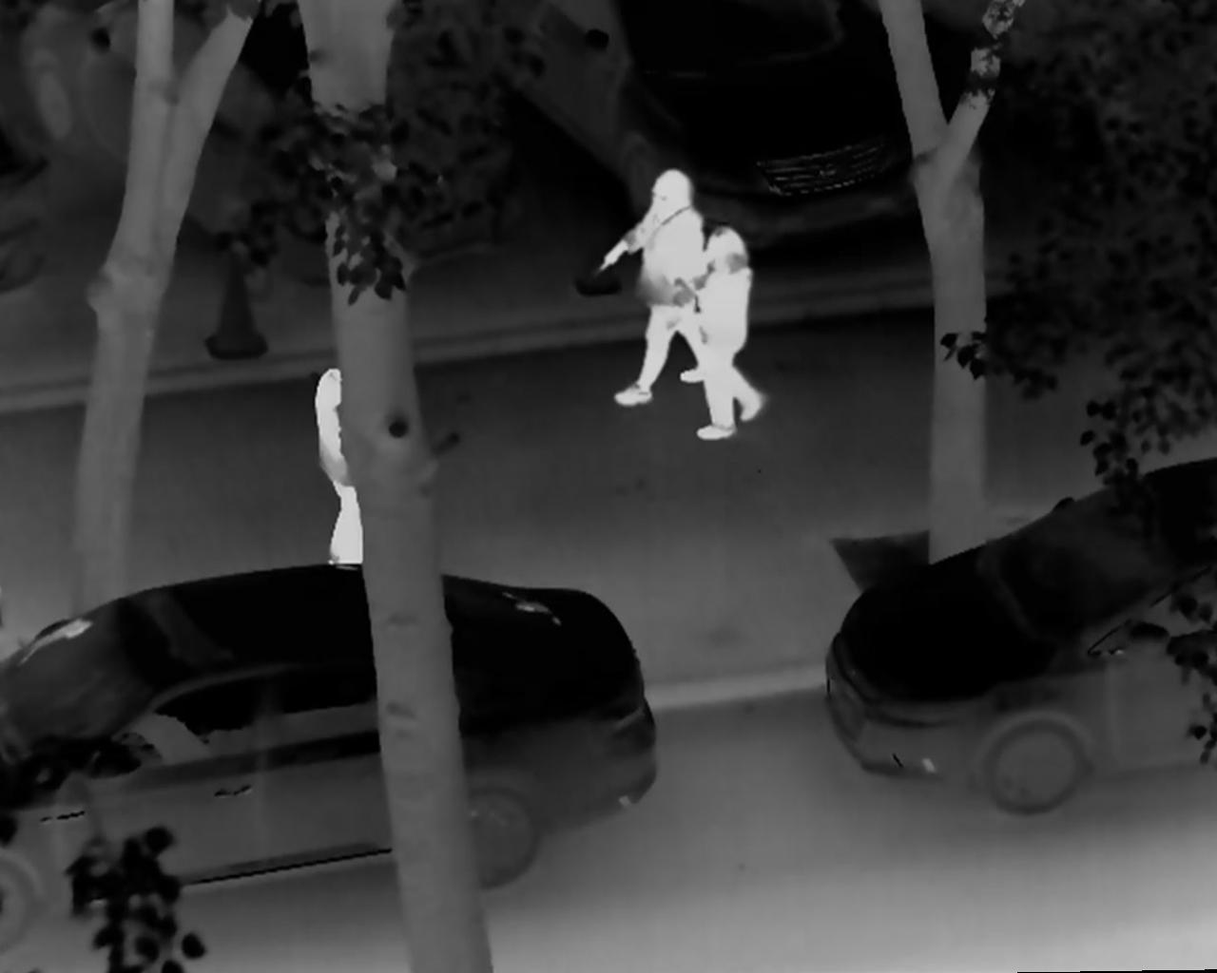person: (586, 164, 724, 411), (669, 229, 775, 446), (305, 335, 392, 571)
